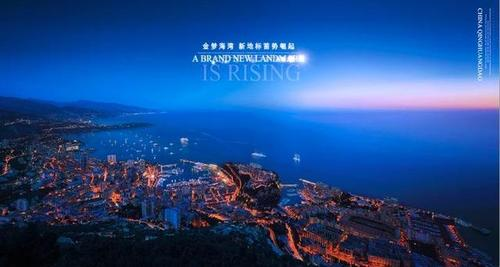sky_cloud: (28, 33, 486, 156), (1, 21, 485, 102)
